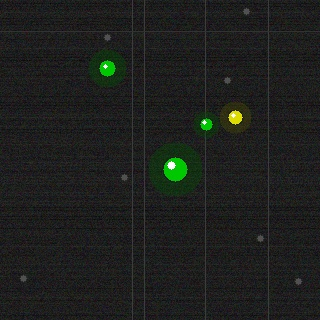green_normal: (161, 155, 189, 183), (97, 58, 117, 78), (198, 116, 214, 132)
yellow_warning: (226, 108, 244, 126)
